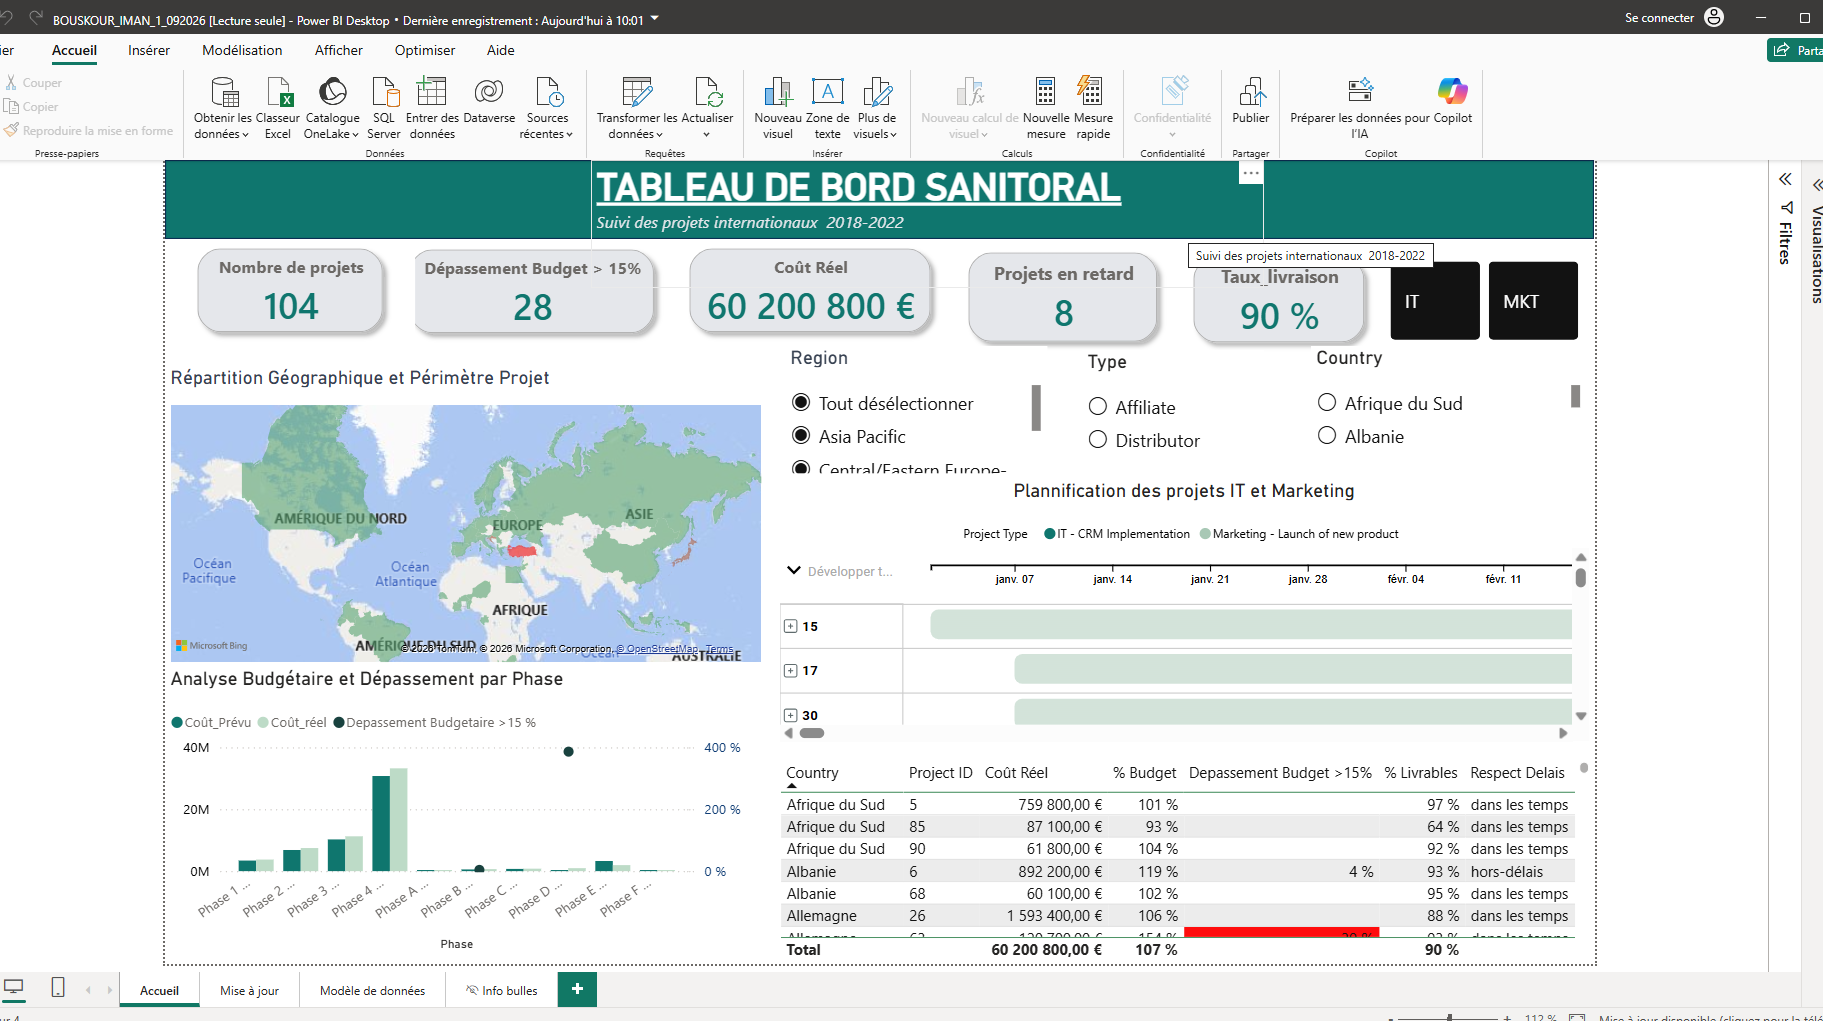

What the dashboard file says about the page in this screenshot:
{"tool":"powerbi","page":{"name":"Accueil","canvas":[1280,720],"ordinal":0},"visuals":[{"type":"cardVisual","fields":{"Data":["Projects_plans.Taux_livraison"]},"box":[892.3,57,211.9,135.9],"z":0},{"type":"cardVisual","fields":{"Data":["Mesures.Projet_Hors_Délais"]},"box":[690.8,54.2,227.1,138.7],"z":1000},{"type":"cardVisual","fields":{"Data":["Mesures.Coût_Réel"]},"box":[440.9,50.4,274.6,133],"z":2000},{"type":"cardVisual","fields":{"Data":["Mesures.Projets_Hors_Budget"]},"box":[190.1,51.3,277.5,133],"z":3000},{"type":"cardVisual","fields":{"Data":["Mesures.Nb_de_Projets"]},"box":[0,50.4,224.3,134],"z":4000},{"type":"shape","box":[0,0,1279.7,70.7],"z":5000},{"type":"textbox","title":"TABLEAU DE BORD SANITORAL","box":[381.8,0,602.7,114.6],"z":6000},{"type":"filledMap","title":"Répartition Géographique et Périmètre Projet","fields":{"Category":["Projects_Locations.Country"]},"box":[0,184.4,538.8,269.9],"z":7000},{"type":"lineClusteredColumnComboChart","title":"Analyse Budgétaire et Dépassement par Phase","fields":{"Category":["Actual_Costs.Phase"],"Y":["Mesures.Budget_Prévu","Mesures.Coût_réel"],"Y2":["Mesures.DepassementMaxCout"]},"box":[0,454,521.2,258.8],"z":8000},{"type":"Gantt1448688115699","title":"Plannification des projets IT et Marketing","fields":{"StartDate":["Projects_plans.Start Date"],"Legend":["Project type.Project Type"],"Task":["Projects_plans.Phase"],"Parent":["Projects_plans.Project ID"],"Duration":["Sum(Projects_plans.Planned_Duration)"],"Completion":["Projects_plans.Taux_Avancement"]},"box":[545.4,286,734.6,240.4],"z":9000},{"type":"advancedSlicerVisual","fields":{"Values":["Project type.Type_Court"]},"box":[1092.8,85.5,178.6,80.8],"z":10000},{"type":"tableEx","fields":{"Values":["Country_Profiles.Country","Projects_plans.Project ID","Mesures.Coût_réel","Projects_plans.Taux_Budget","Mesures.DepassementMaxCout","Projects_plans.Taux_livraison","Actual_Duration.Respect_Delais"]},"box":[545.1,533.7,734.9,187],"z":11000},{"type":"listSlicer","fields":{"Values":["Country_Profiles.Region"]},"box":[555,166.3,234.7,119.7],"z":12000},{"type":"listSlicer","fields":{"Values":["Country_Profiles.Type"]},"box":[821,170.1,163,111],"z":13000},{"type":"listSlicer","fields":{"Values":["Country_Profiles.Country"]},"box":[1026,167,246,106],"z":14000}]}

Visuals, with their boxes on the page's 1280x720 design canvas (x1, y1, x2, y2). These are canvas units, not pixel positions in the 1823x1021 screenshot, which may show the page scaled, cropped or inside an application window:
cardVisual - Projects_plans.Taux_livraison: [892,57,1104,193]
cardVisual - Mesures.Projet_Hors_Délais: [691,54,918,193]
cardVisual - Mesures.Coût_Réel: [441,50,716,183]
cardVisual - Mesures.Projets_Hors_Budget: [190,51,468,184]
cardVisual - Mesures.Nb_de_Projets: [0,50,224,184]
shape: [0,0,1280,71]
"TABLEAU DE BORD SANITORAL" textbox: [382,0,984,115]
"Répartition Géographique et Périmètre Projet" filledMap: [0,184,539,454]
"Analyse Budgétaire et Dépassement par Phase" lineClusteredColumnComboChart: [0,454,521,713]
"Plannification des projets IT et Marketing" Gantt1448688115699: [545,286,1280,526]
advancedSlicerVisual - Project type.Type_Court: [1093,86,1271,166]
tableEx - Country_Profiles.Country x Projects_plans.Project ID: [545,534,1280,721]
listSlicer - Country_Profiles.Region: [555,166,790,286]
listSlicer - Country_Profiles.Type: [821,170,984,281]
listSlicer - Country_Profiles.Country: [1026,167,1272,273]
